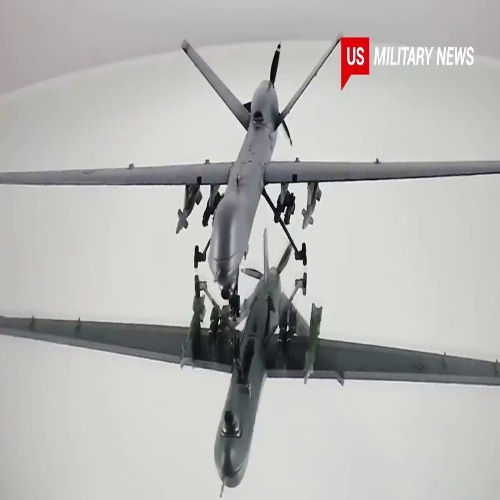uav: (6, 36, 500, 292)
